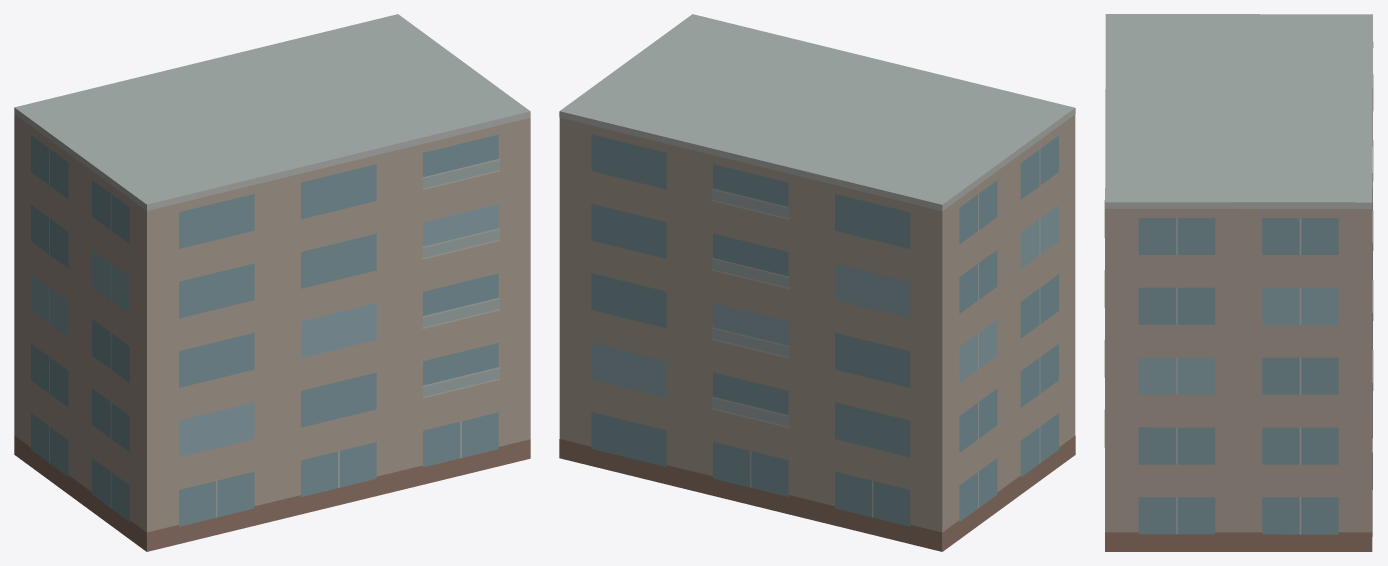
Rendered from survey-upis-32955573.glb.
The picture shows the model from 3 angles, left to right: view 1: azimuth 30°, elevation 25°; view 2: azimuth 150°, elevation 25°; view 3: azimuth 270°, elevation 25°; orthographic projection.
Parts seen in each view (by area): view 1: survey-upis-32955573.tmp; view 2: survey-upis-32955573.tmp; view 3: survey-upis-32955573.tmp.
Part boxes in pixels (bbox=[...]): survey-upis-32955573.tmp: bbox=[14, 14, 530, 551]; survey-upis-32955573.tmp: bbox=[559, 14, 1075, 551]; survey-upis-32955573.tmp: bbox=[1104, 14, 1373, 551].
Bounding box in the file's own units: 15.34 × 13.25 × 9.28.
